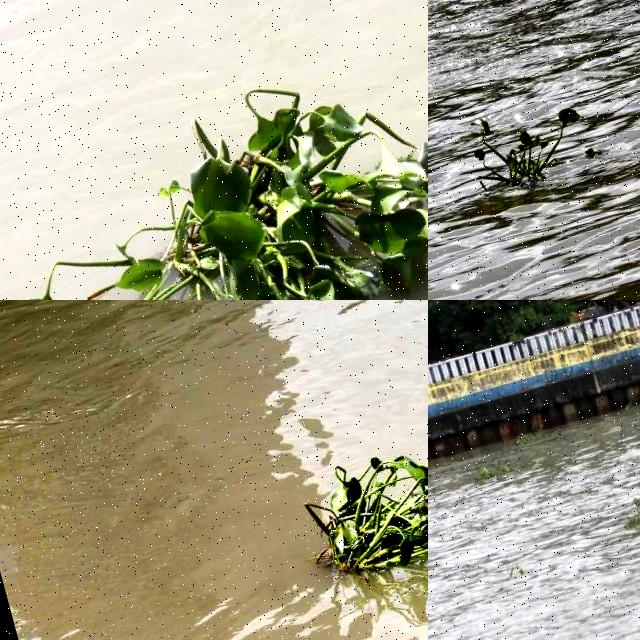water-hyacinth: (1, 20, 429, 301), (299, 420, 429, 608), (459, 91, 598, 200), (613, 459, 640, 537)
